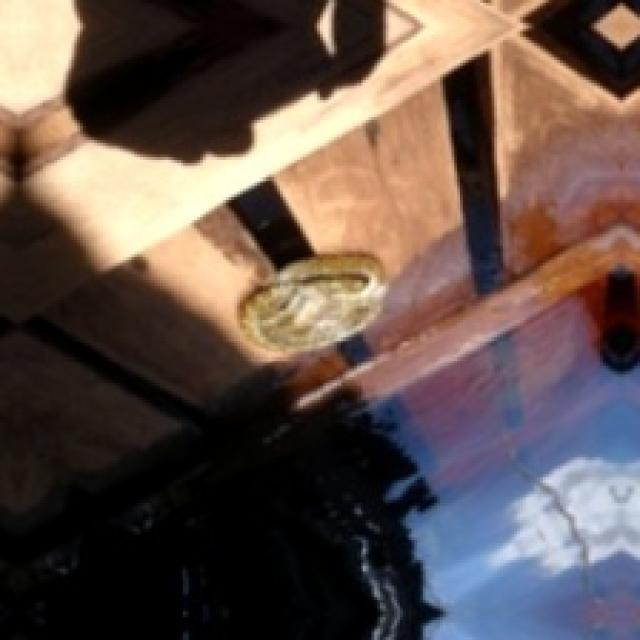reticulated python: (240, 251, 383, 351)
